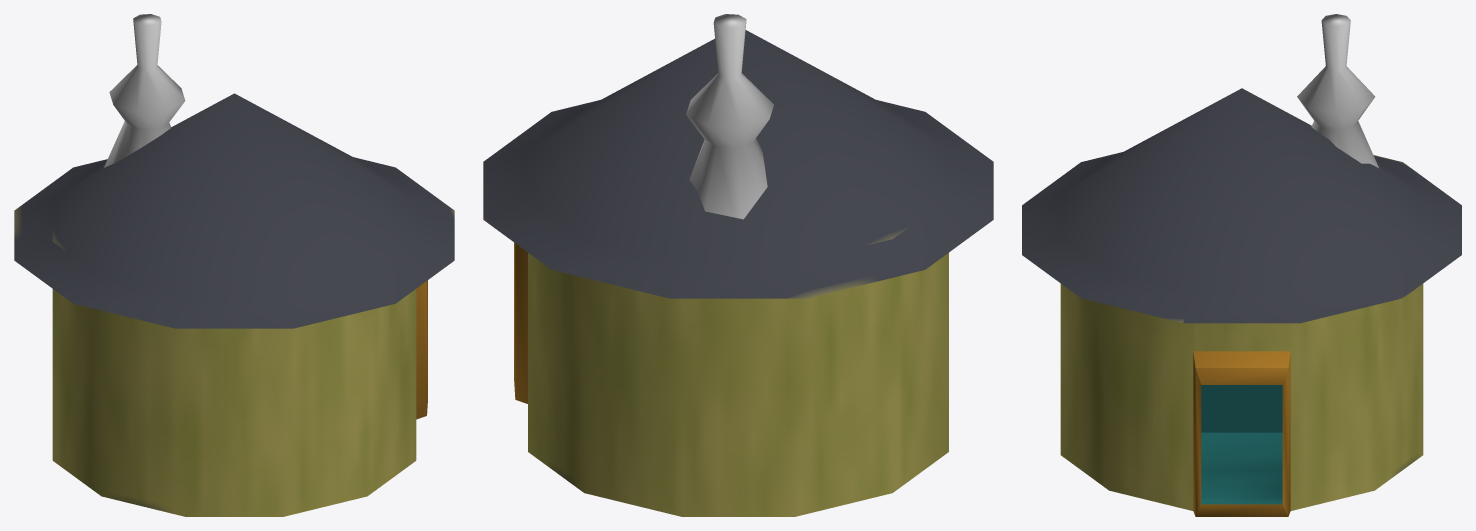
Rendered from Yurt.fbx.
3 renders of one model, left to right at view 1: azimuth 30°, elevation 25°; view 2: azimuth 150°, elevation 25°; view 3: azimuth 270°, elevation 25°, orthographic. The views are drawn at different scales.
Parts seen in each view (by area): view 1: Yurt, Chimeny; view 2: Yurt, Chimeny; view 3: Yurt, Chimeny.
Boxes of the visible parts, bbox=[...] form: Yurt: bbox=[14, 93, 454, 516]; Chimeny: bbox=[104, 14, 185, 167]; Yurt: bbox=[483, 30, 993, 516]; Chimeny: bbox=[686, 14, 773, 219]; Yurt: bbox=[1022, 88, 1461, 516]; Chimeny: bbox=[1297, 14, 1378, 167].
Bounding box in the file's own units: 625 × 619 × 625.
